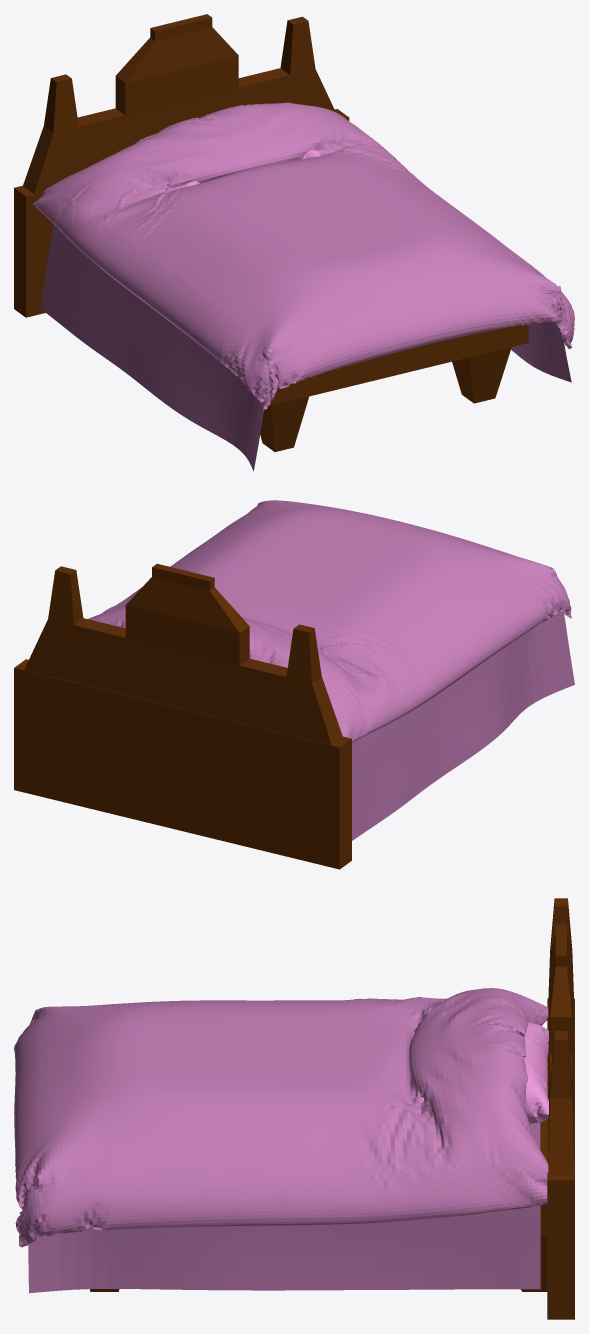
The model's file is KROVATKA.fbx.
3 views of the same model, one above another, from view 1: azimuth 30°, elevation 25°; view 2: azimuth 150°, elevation 25°; view 3: azimuth 270°, elevation 25° (orthographic). The views are drawn at different scales.
Parts seen in each view (by area): view 1: Плоскость.002, Куб.002, Плоскость; view 2: Куб.002, Плоскость.002, Плоскость; view 3: Плоскость.002, Плоскость, Куб.002, Сетка.
Part boxes in pixels (x1,y1,x2,y2): Плоскость.002: [32, 102, 574, 410]; Куб.002: [14, 14, 528, 451]; Плоскость: [40, 224, 571, 471]; Куб.002: [14, 563, 351, 869]; Плоскость.002: [88, 500, 571, 742]; Плоскость: [352, 611, 574, 840]; Плоскость.002: [14, 988, 548, 1247]; Плоскость: [28, 1122, 540, 1293]; Куб.002: [90, 898, 574, 1319]; Сетка: [413, 1022, 548, 1124].
Bounding box in the file's own units: 704 × 514 × 899.
